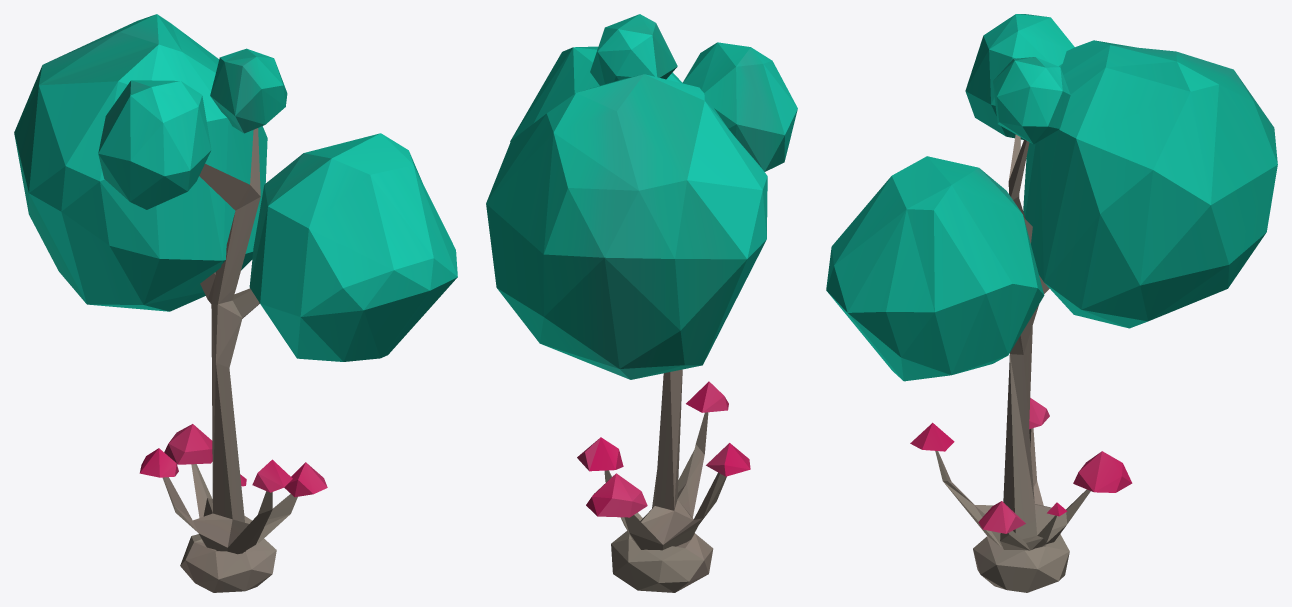
The model's file is Tree3.fbx.
3 renders of one model, left to right at view 1: azimuth 30°, elevation 25°; view 2: azimuth 150°, elevation 25°; view 3: azimuth 270°, elevation 25°, orthographic. The views are drawn at different scales.
Visible parts, largest first — view 1: Sphere.005; view 2: Sphere.005; view 3: Sphere.005.
Boxes of the visible parts, x1,y1,x2,y2 form: Sphere.005: (14,14,457,592); Sphere.005: (486,14,797,592); Sphere.005: (826,14,1277,592).
Bounding box in the file's own units: 1183 × 1901 × 1468.
1 material, 1 textured.
